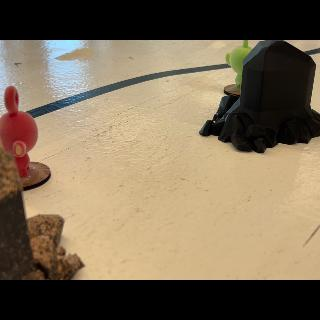teletubby: (0, 86, 38, 178), (226, 40, 252, 88)
